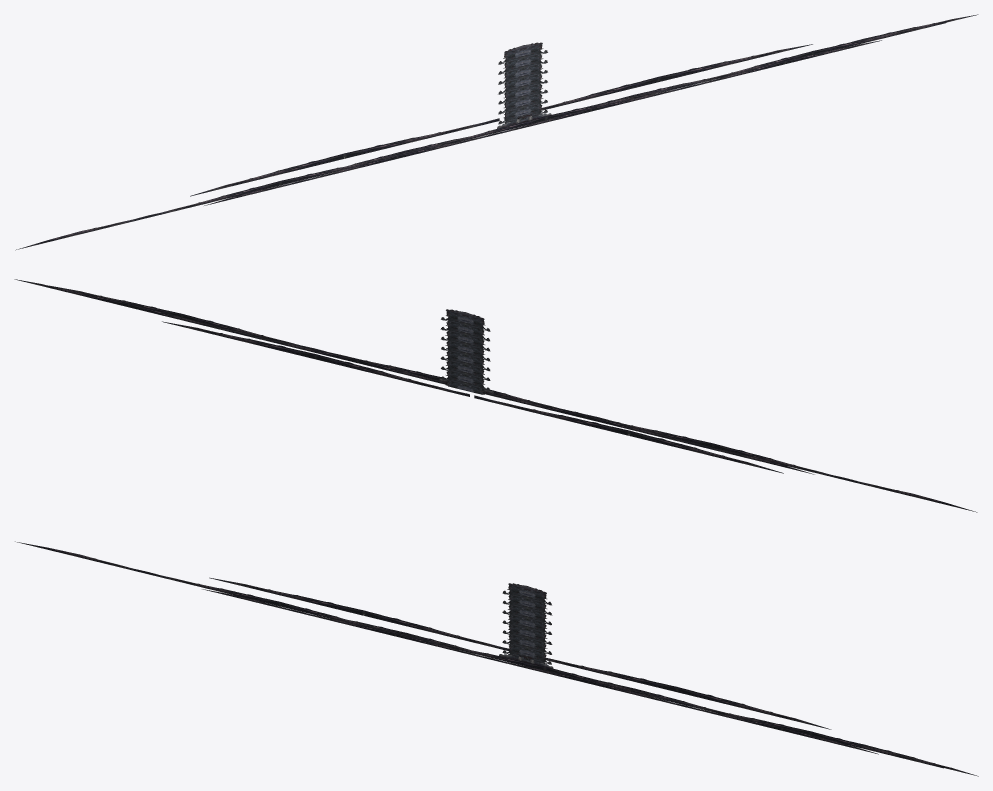
The model's file is Tower_Dragon.fbx.
3 renders of one model, top to bottom at view 1: azimuth 30°, elevation 25°; view 2: azimuth 150°, elevation 25°; view 3: azimuth 330°, elevation 25°, orthographic.
Parts seen in each view (by area): view 1: tower_dragon_base, tower_dragon, tower_dragon_base03, tower_dragon_base02; view 2: tower_dragon_base, tower_dragon, tower_dragon_base02; view 3: tower_dragon_base, tower_dragon, tower_dragon_base03, tower_dragon_base02.
Boxes of the visible parts, x1=… form: tower_dragon_base: x1=15, y1=23, x2=945, y2=250; tower_dragon: x1=498, y1=42, x2=547, y2=124; tower_dragon_base03: x1=204, y1=40, x2=881, y2=205; tower_dragon_base02: x1=348, y1=14, x2=978, y2=165; tower_dragon_base: x1=49, y1=285, x2=977, y2=512; tower_dragon: x1=440, y1=309, x2=490, y2=394; tower_dragon_base02: x1=14, y1=279, x2=814, y2=474; tower_dragon_base: x1=15, y1=541, x2=943, y2=768; tower_dragon: x1=502, y1=583, x2=552, y2=664; tower_dragon_base03: x1=202, y1=589, x2=878, y2=754; tower_dragon_base02: x1=349, y1=620, x2=978, y2=776.
Size of the model in its own units: 150 by 11.82 by 2.86.
Materials: 1 (1 with a texture image).
